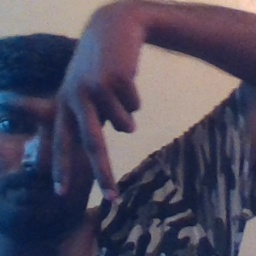Y: (54, 32, 145, 203)
